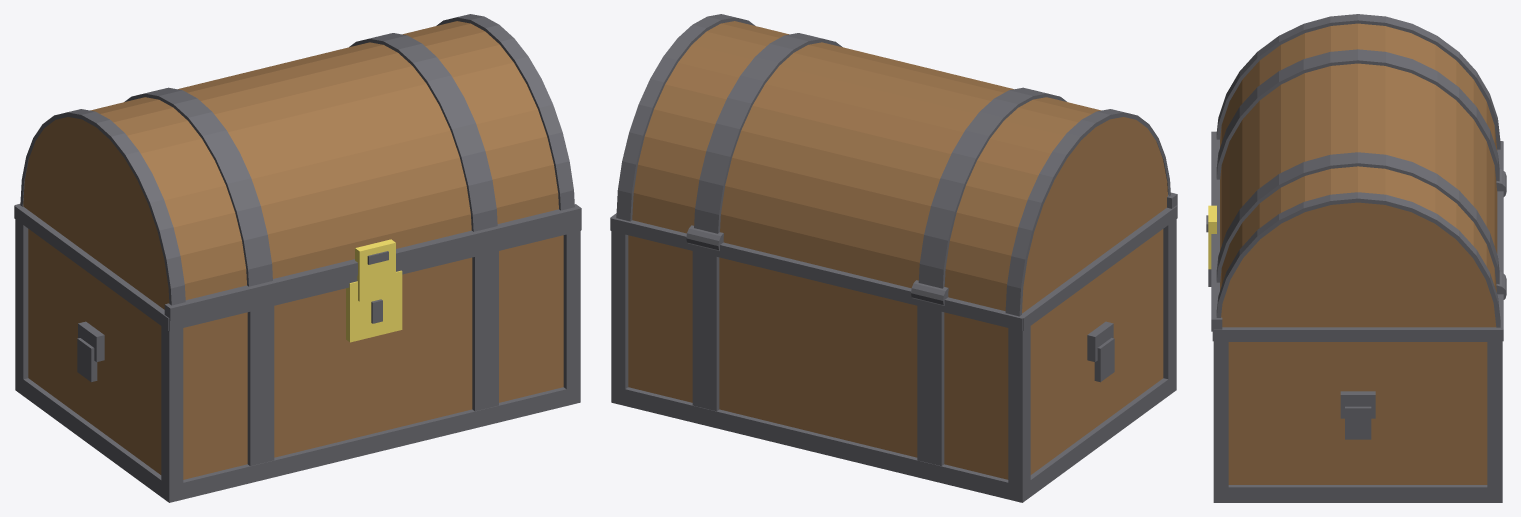
The model's file is TreasureChest.fbx.
3 views of the same model, side by side, from view 1: azimuth 30°, elevation 25°; view 2: azimuth 150°, elevation 25°; view 3: azimuth 270°, elevation 25° (orthographic). The views are drawn at different scales.
Visible parts, largest first — view 1: Chest_Lid, Chest_Base; view 2: Chest_Base, Chest_Lid; view 3: Chest_Lid, Chest_Base.
Boxes of the visible parts, x1,y1,x2,y2 form: Chest_Lid: [20, 14, 581, 320]; Chest_Base: [14, 204, 581, 502]; Chest_Base: [610, 205, 1177, 502]; Chest_Lid: [616, 14, 1177, 316]; Chest_Lid: [1206, 14, 1500, 331]; Chest_Base: [1208, 141, 1506, 502].
Bounding box in the file's own units: 1.06 × 0.768 × 0.6915.
